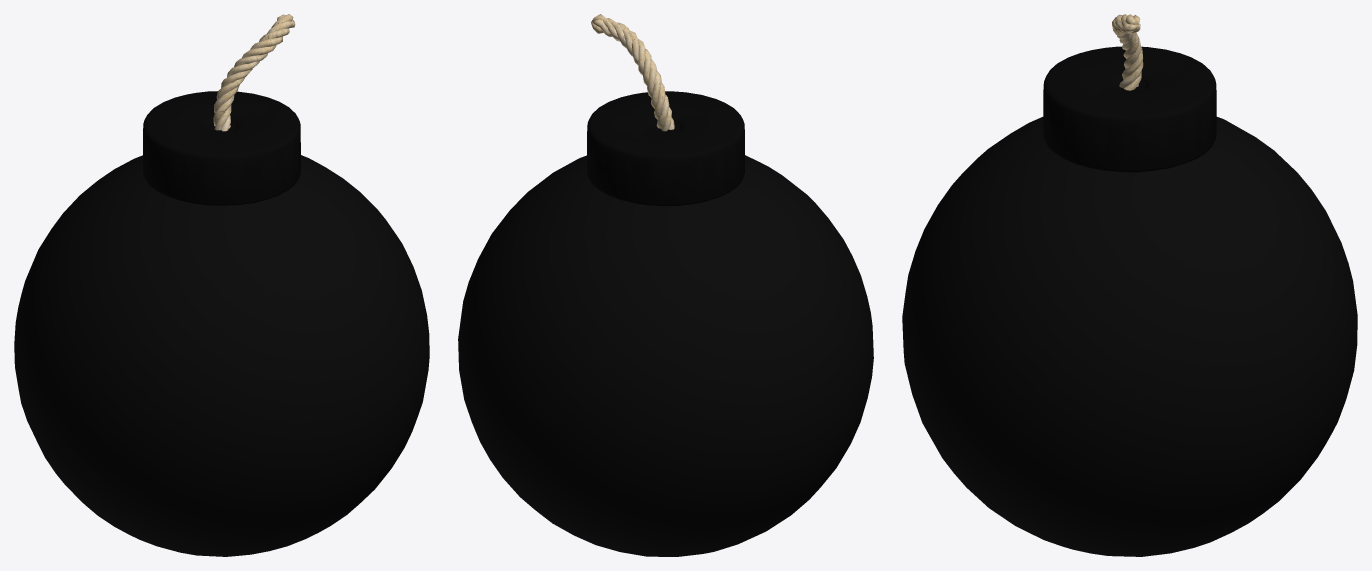
The model's file is bomb.obj.
The picture shows the model from 3 angles, left to right: view 1: azimuth 30°, elevation 25°; view 2: azimuth 150°, elevation 25°; view 3: azimuth 270°, elevation 25°; orthographic projection. The views are drawn at different scales.
Visible parts, largest first — view 1: Sphere, Cylinder_Mesh.002, Circle_Circle.003; view 2: Sphere, Cylinder_Mesh.002, Circle_Circle.003; view 3: Sphere, Cylinder_Mesh.002, Circle_Circle.003.
Part boxes in pixels (<box>): Sphere: <box>14,155,429,556</box>; Cylinder_Mesh.002: <box>143,91,300,205</box>; Circle_Circle.003: <box>213,14,295,131</box>; Sphere: <box>458,155,873,556</box>; Cylinder_Mesh.002: <box>587,91,744,206</box>; Circle_Circle.003: <box>591,14,674,131</box>; Sphere: <box>902,117,1357,556</box>; Cylinder_Mesh.002: <box>1043,46,1216,172</box>; Circle_Circle.003: <box>1112,14,1143,90</box>.
Bounding box in the file's own units: 4.72 × 6.32 × 4.72.
Materials: 3 (1 with a texture image).
